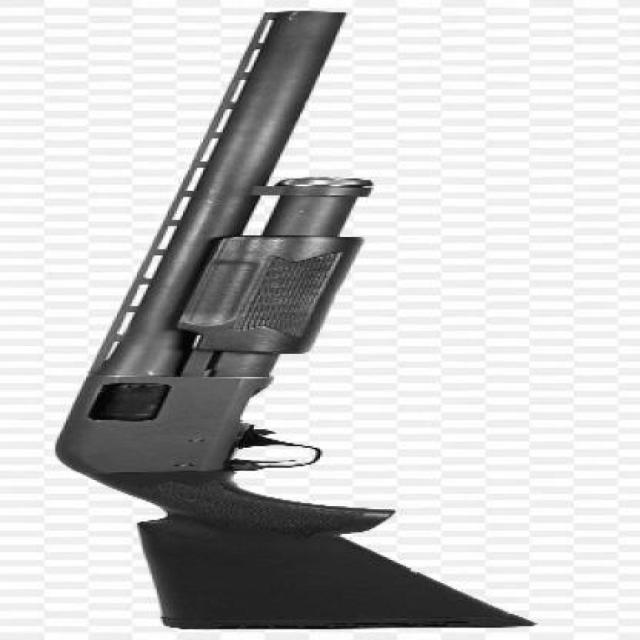weapon: (54, 13, 540, 632)
